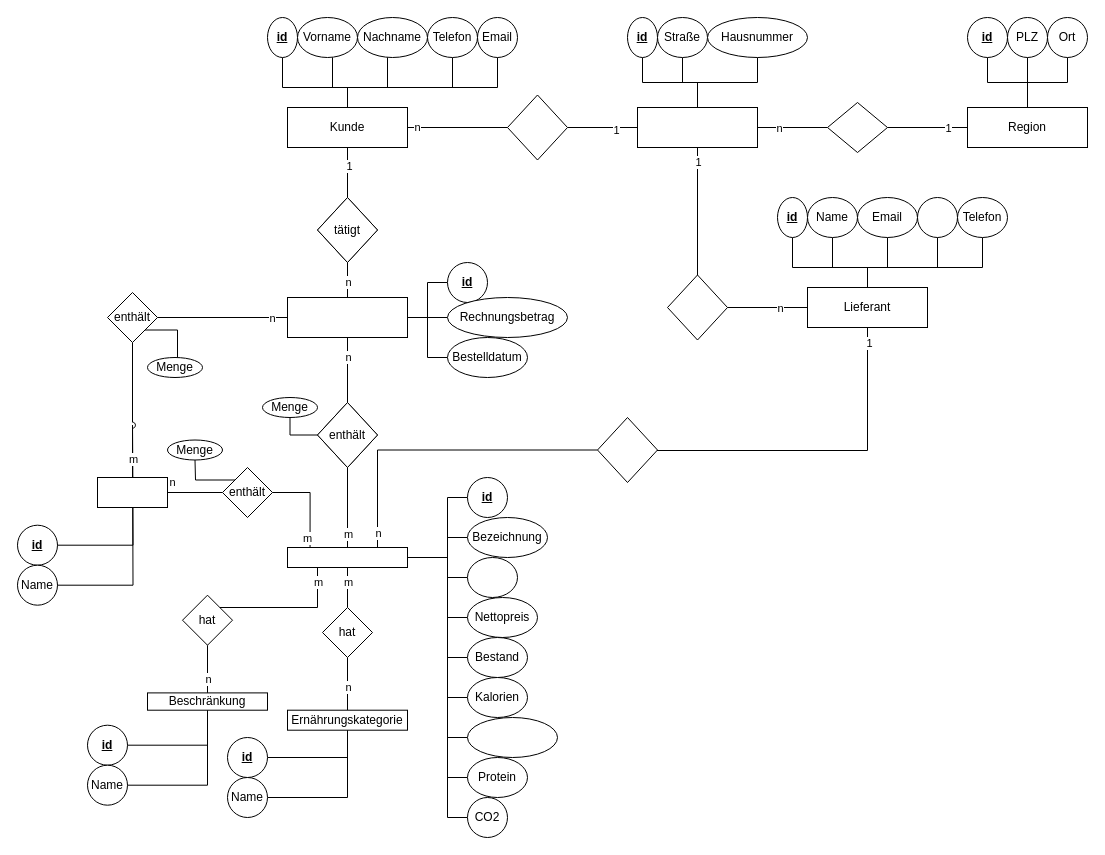
The diagram is 1105 pixels wide and 855 high, and some of its shapes have lost their labels. Here are the shapes that lost their labels. From the top down, the centre of each, then its label:
At point 537,127: "wohnt in".
At point 697,127: "Adresse".
At point 857,127: "liegt in".
At point 937,217: "Link".
At point 347,317: "Bestellung".
At point 697,307: "sitzt in".
At point 627,449: "liefert".
At point 132,492: "Rezept".
At point 347,557: "Zutat".
At point 492,577: "Einheit".
At point 512,737: "Kohlenhydrate".
